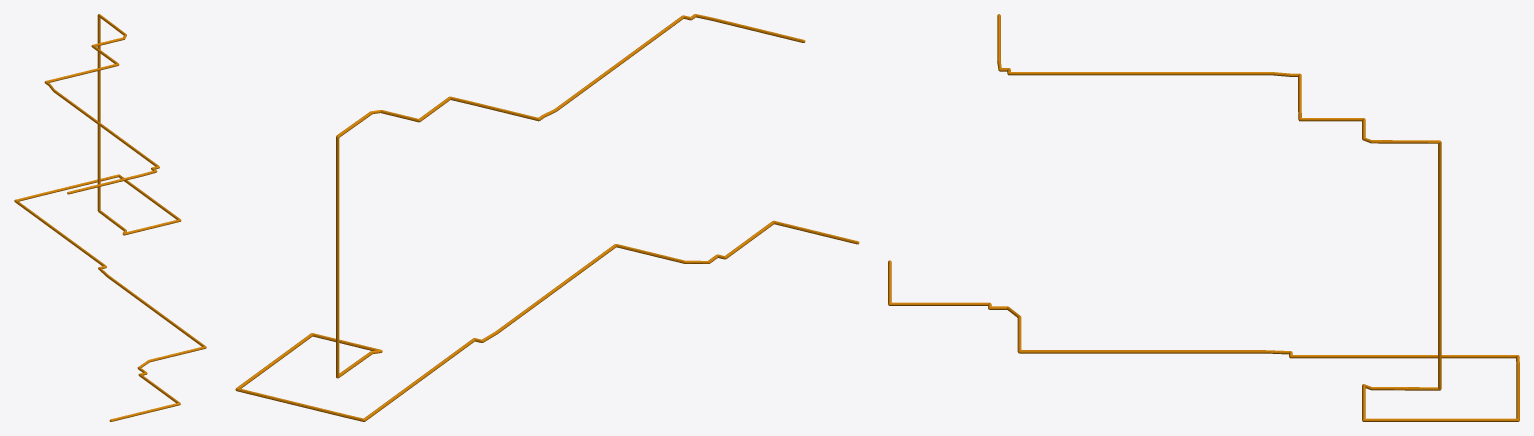
The picture shows the model from 3 angles, left to right: view 1: azimuth 30°, elevation 25°; view 2: azimuth 150°, elevation 25°; view 3: azimuth 270°, elevation 25°; orthographic projection. The views are drawn at different scales.
Size of the model in its own units: 2081 by 1520 by 3481.
